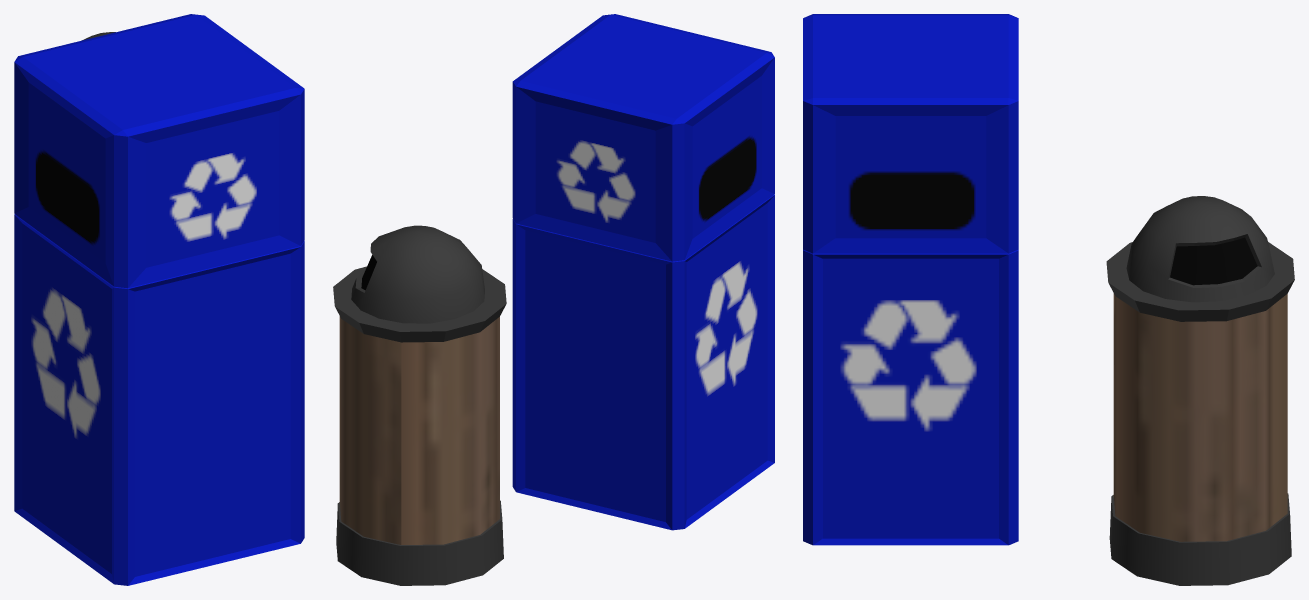
File: recyclebinModel.FBX
3 renders of one model, left to right at view 1: azimuth 30°, elevation 25°; view 2: azimuth 150°, elevation 25°; view 3: azimuth 270°, elevation 25°, orthographic. The views are drawn at different scales.
Parts seen in each view (by area): view 1: recycle/trash bins; view 2: recycle/trash bins; view 3: recycle/trash bins.
Boxes of the visible parts, x1=… form: recycle/trash bins: x1=14, y1=14, x2=304, y2=585; recycle/trash bins: x1=333, y1=14, x2=774, y2=585; recycle/trash bins: x1=803, y1=14, x2=1294, y2=585.
Bounding box in the file's own units: 7.94 × 12.32 × 12.38.
1 material, 1 textured.
